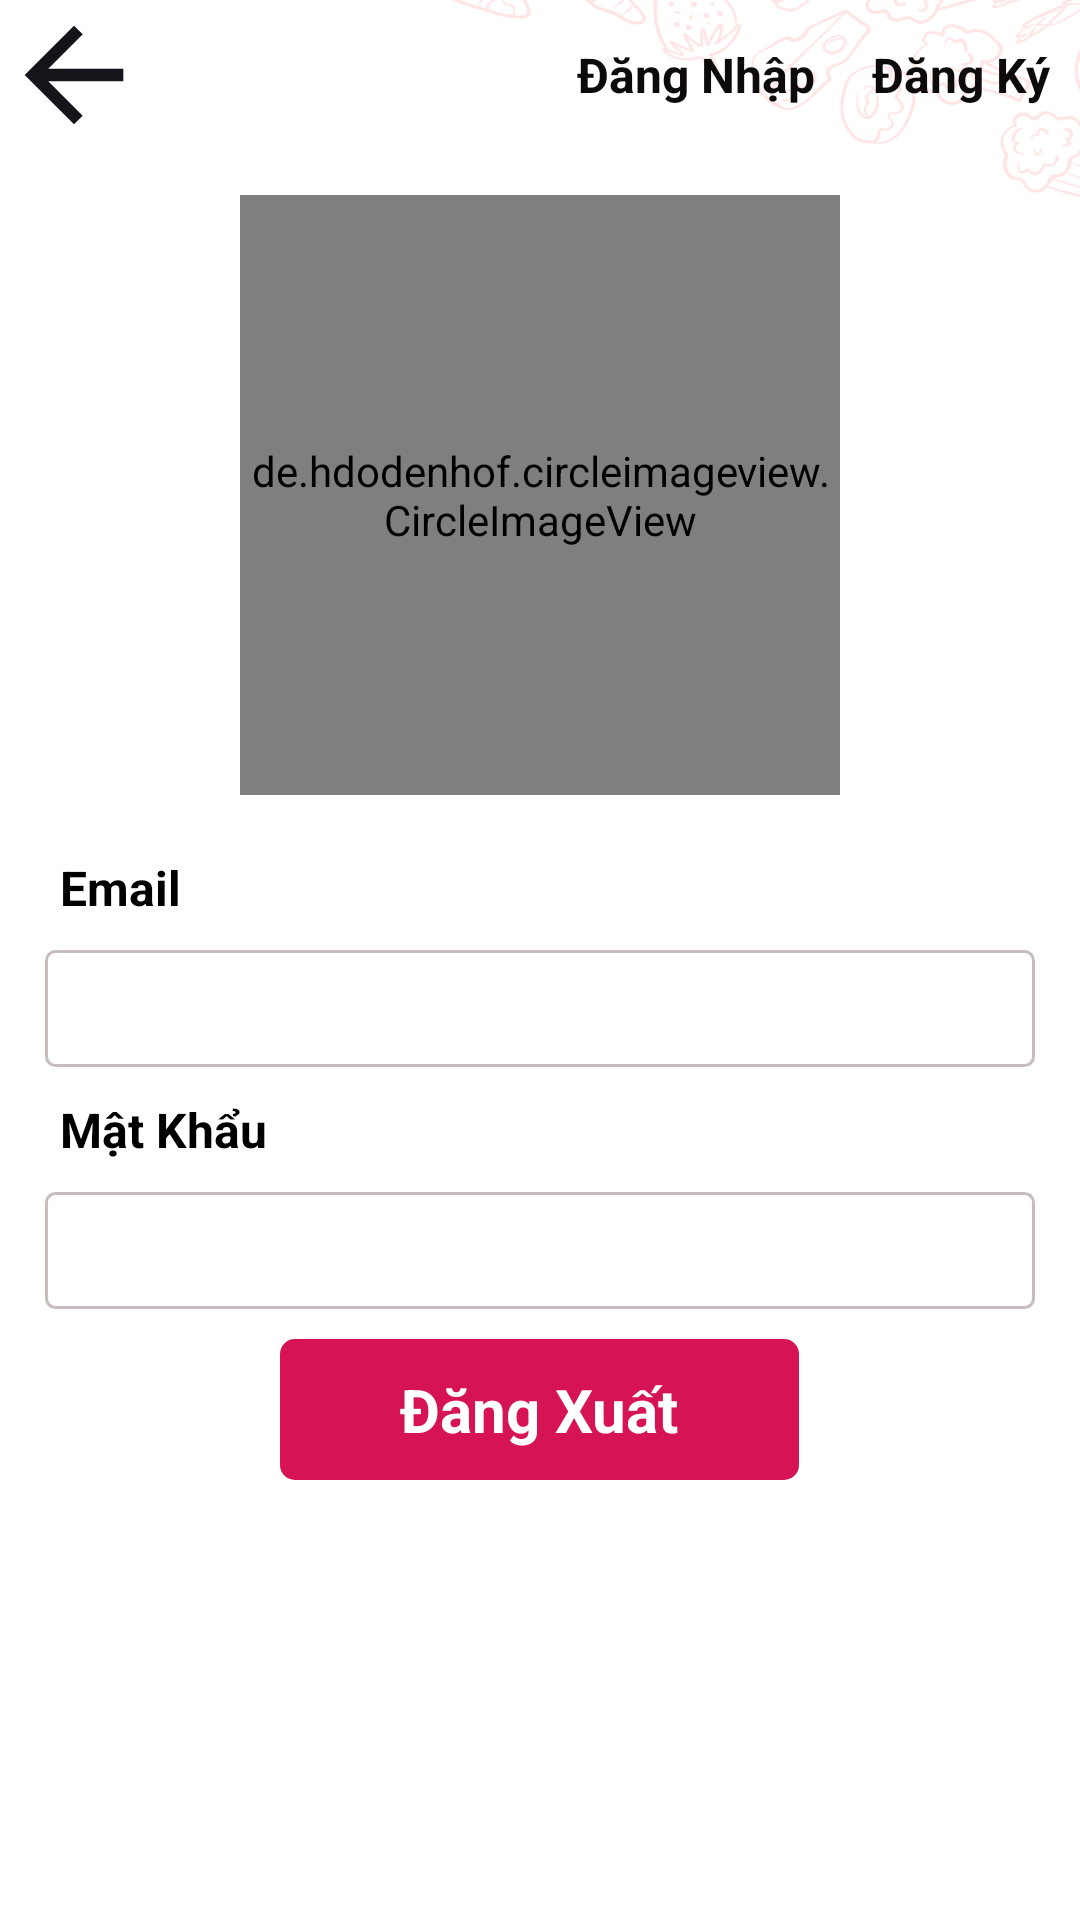

Icons on this 1080x1920 Android screen, each with the point to tap as (x=x, y=y):
back: (x=74, y=75)
